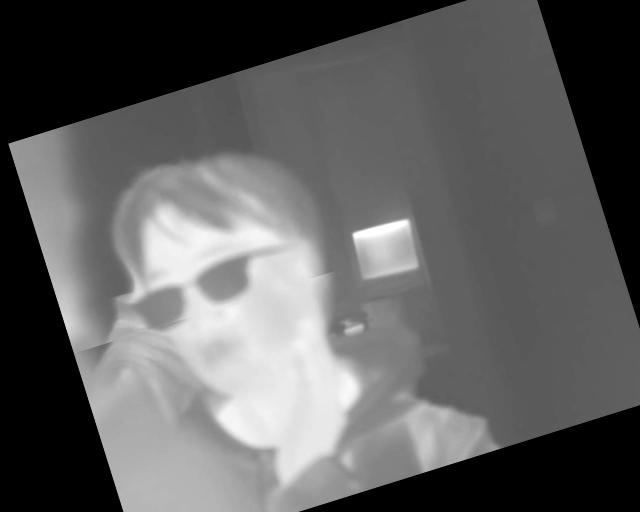face: (98, 123, 365, 414)
